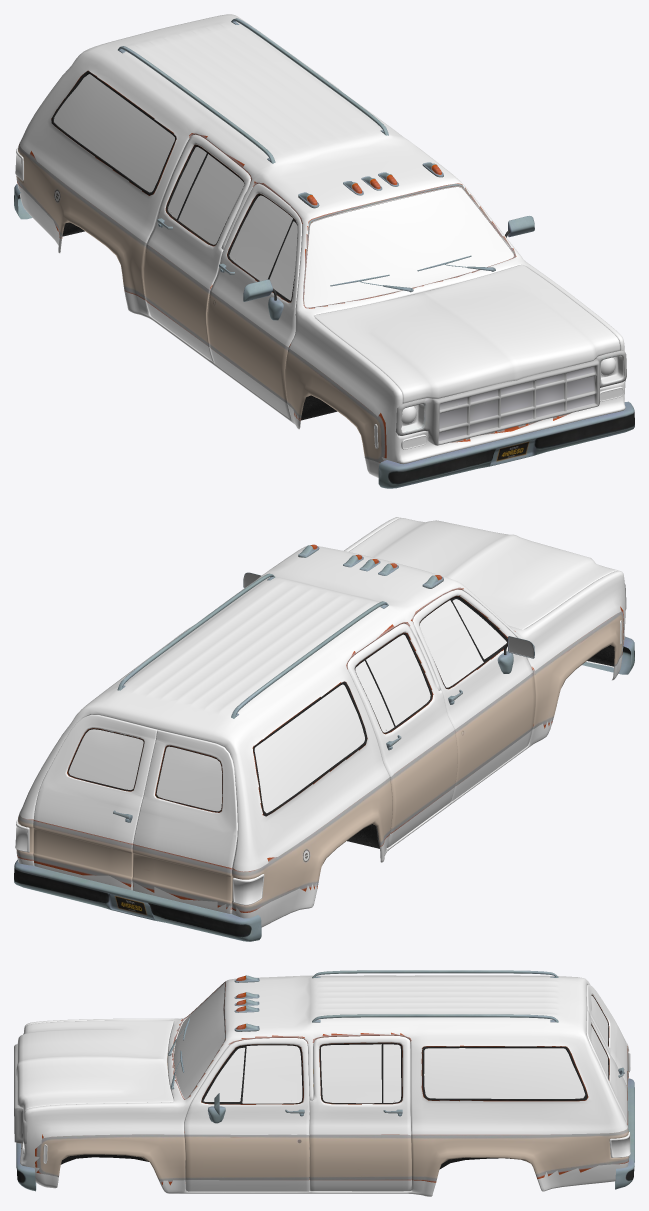
Rendered from hauler.glb.
The picture shows the model from 3 angles, top to bottom: view 1: azimuth 30°, elevation 25°; view 2: azimuth 150°, elevation 25°; view 3: azimuth 270°, elevation 25°; orthographic projection. The views are drawn at different scales.
Visible parts, largest first — view 1: paint:0, trim:0, screen:2, glass:2, paint:1, trim:1, trim:2; view 2: paint:0, paint:1, glass:2, trim:1, trim:0, trim:2, tail:2; view 3: paint:0, glass:2, trim:0, paint:1, trim:1, screen:2, trim:2, tail:2.
Boxes of the visible parts, x1=… form: paint:0: x1=17, y1=14, x2=625, y2=477; trim:0: x1=14, y1=70, x2=634, y2=488; screen:2: x1=304, y1=187, x2=513, y2=307; glass:2: x1=54, y1=74, x2=297, y2=300; paint:1: x1=145, y1=134, x2=301, y2=418; trim:1: x1=62, y1=144, x2=337, y2=420; trim:2: x1=118, y1=18, x2=534, y2=320; paint:0: x1=17, y1=517, x2=625, y2=927; paint:1: x1=34, y1=589, x2=532, y2=913; glass:2: x1=68, y1=599, x2=506, y2=813; trim:1: x1=33, y1=595, x2=614, y2=909; trim:0: x1=14, y1=583, x2=634, y2=941; trim:2: x1=113, y1=544, x2=534, y2=822; tail:2: x1=15, y1=819, x2=264, y2=905; paint:0: x1=16, y1=975, x2=628, y2=1196; glass:2: x1=203, y1=995, x2=608, y2=1103; trim:0: x1=14, y1=981, x2=634, y2=1191; paint:1: x1=184, y1=984, x2=627, y2=1191; trim:1: x1=61, y1=995, x2=628, y2=1181; screen:2: x1=174, y1=984, x2=224, y2=1099; trim:2: x1=168, y1=970, x2=624, y2=1123; tail:2: x1=609, y1=1049, x2=630, y2=1157.
Bounding box in the file's own units: 2.28 × 1.55 × 5.3.
11 materials, 3 textured.
